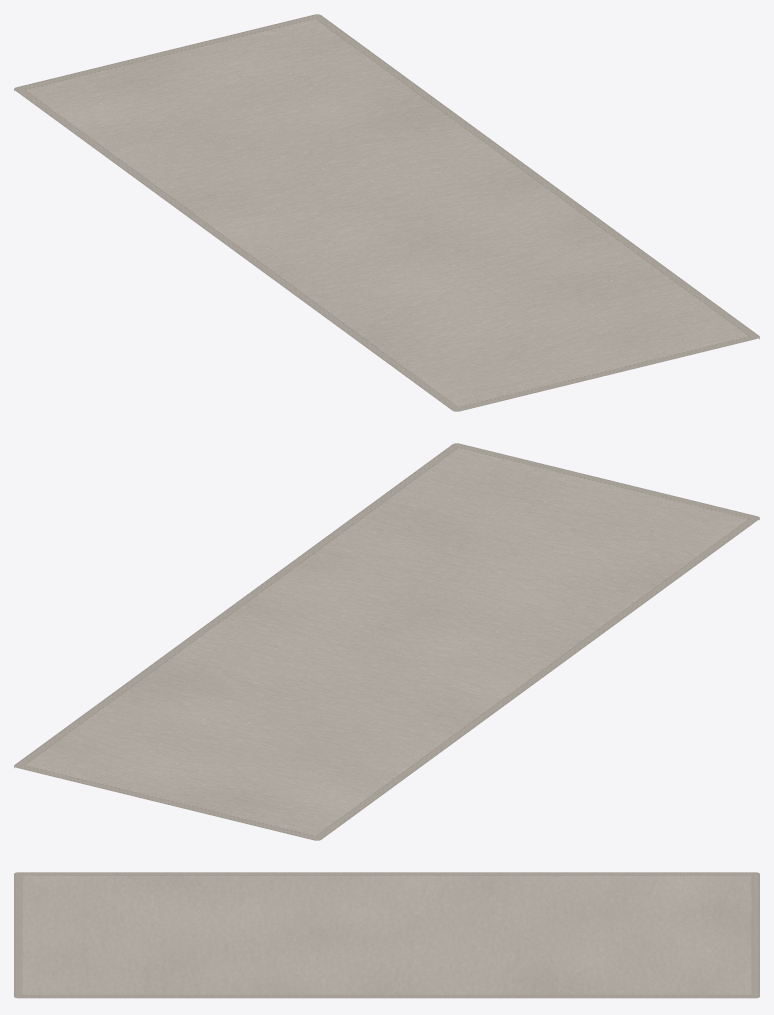
File: beige_hall.glb
The picture shows the model from 3 angles, top to bottom: view 1: azimuth 30°, elevation 25°; view 2: azimuth 150°, elevation 25°; view 3: azimuth 270°, elevation 25°; orthographic projection. The views are drawn at different scales.
Parts seen in each view (by area): view 1: reliv_beige_hall; view 2: reliv_beige_hall; view 3: reliv_beige_hall.
Part boxes in pixels (x1,y1,x2,y2): reliv_beige_hall: (14, 14, 759, 411); reliv_beige_hall: (14, 443, 759, 840); reliv_beige_hall: (14, 872, 759, 998).
Bounding box in the file's own units: 1 × 0.009 × 2.5.
2 materials, 1 textured.
